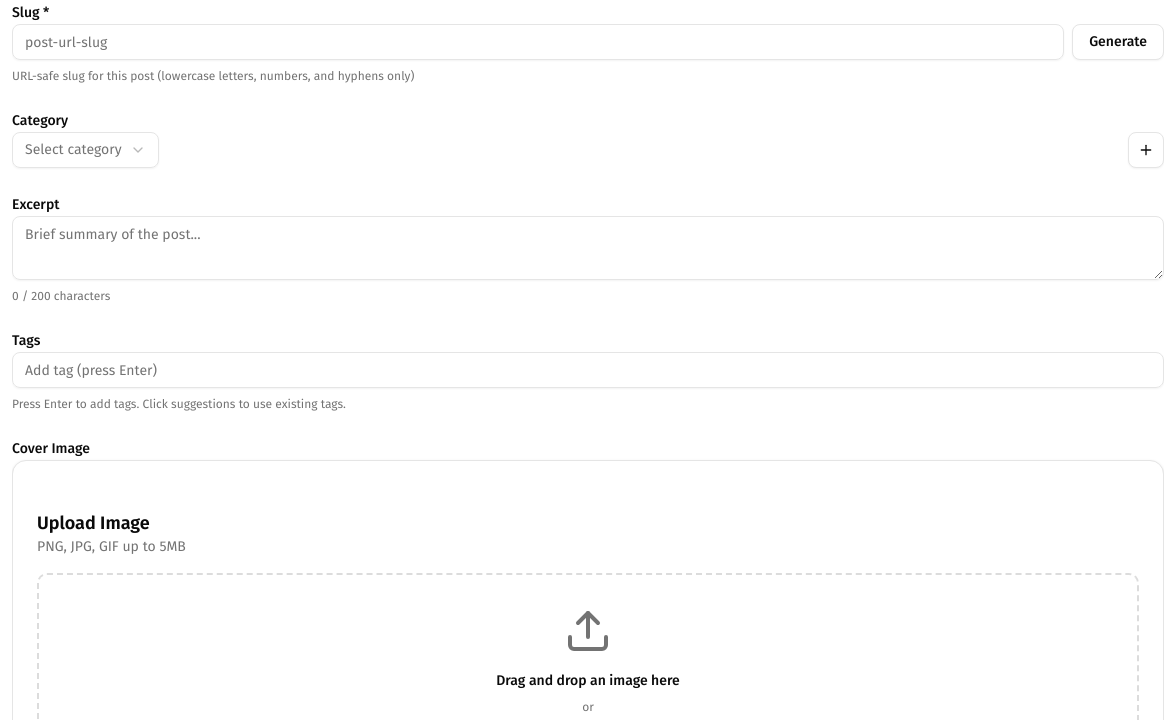
Test: BlogPostMetadata › Category Management › should allow selecting a category
Step 1. Click the dropdown labelled "Select category" → x=85, y=150, box 12,132 -> 158,168
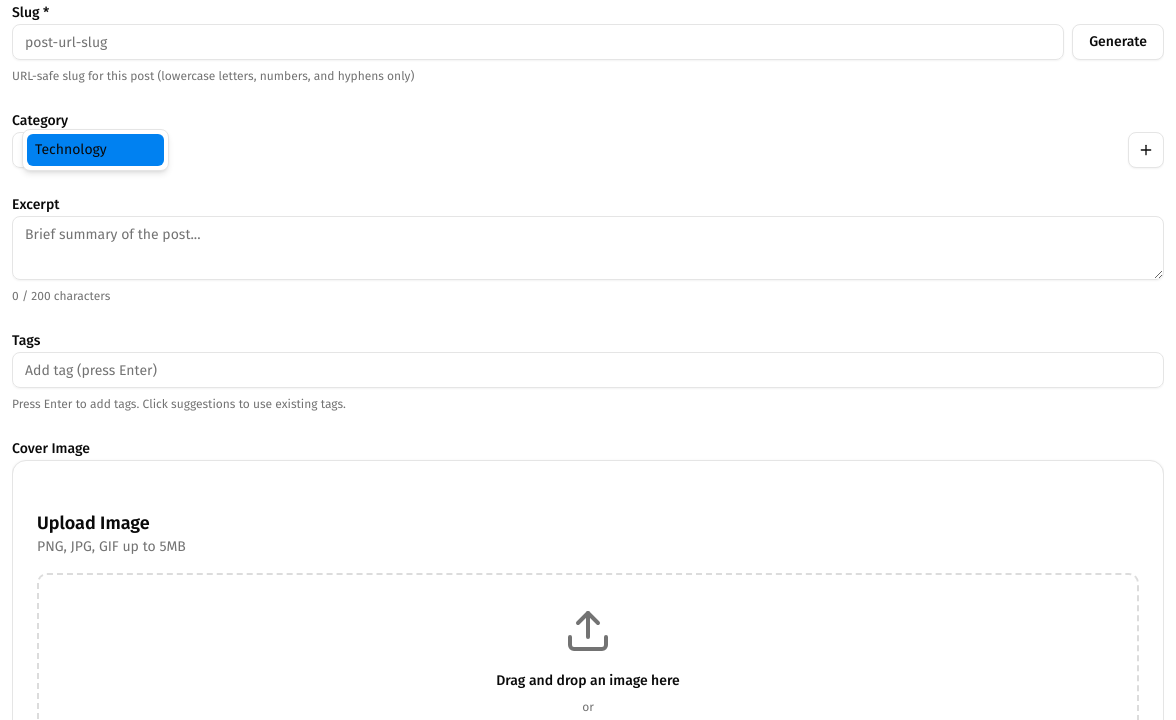
Now the text "Technology" is shown, box 35,140 -> 107,160
